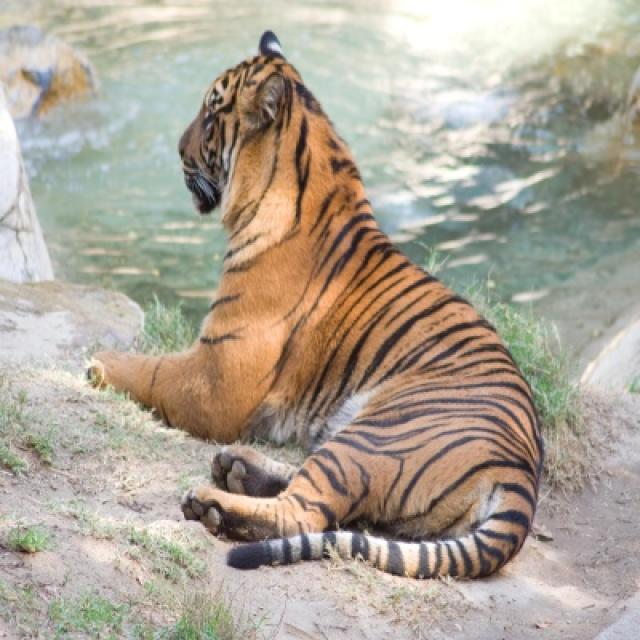Tiger: (91, 30, 547, 584)
